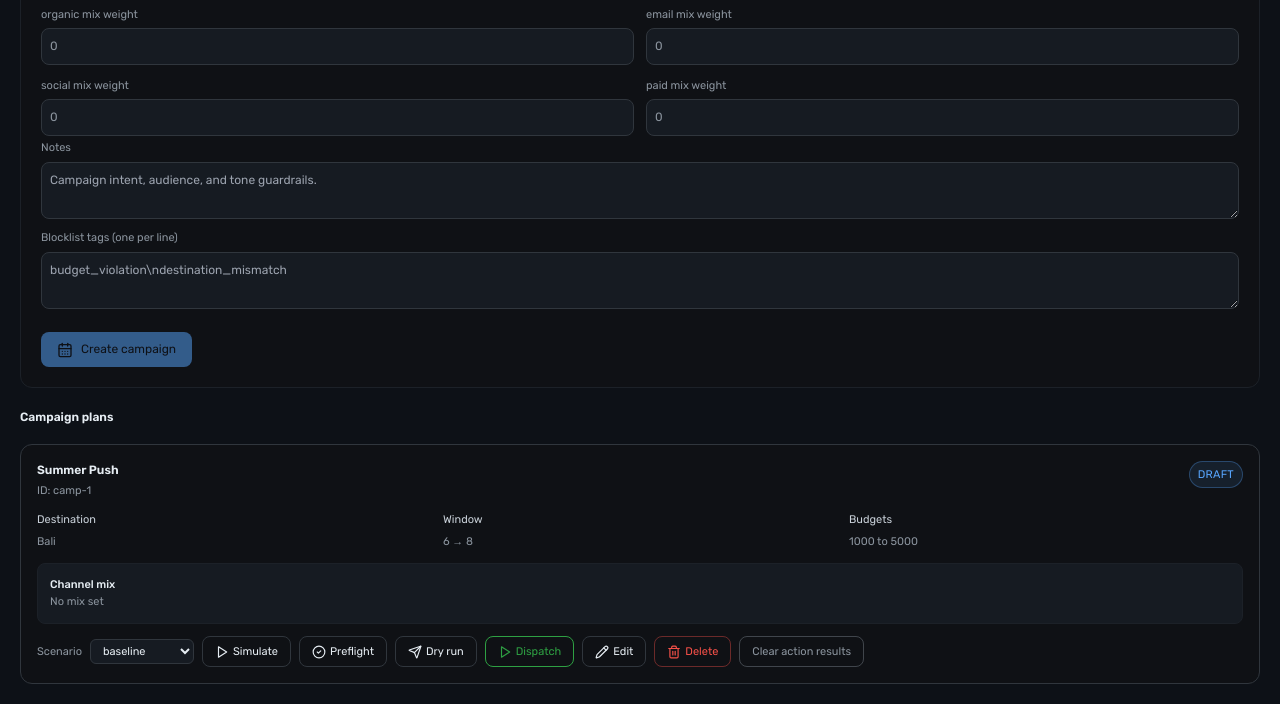
Scenario: SeasonsPageClient › shows the active scenario in the simulation result
This screenshot has width=1280, height=704.
(page scrolled)
Select "aggressive" in the dropdown labelled "Scenario" at (142, 652), box x1=90 y1=639 x2=194 y2=664
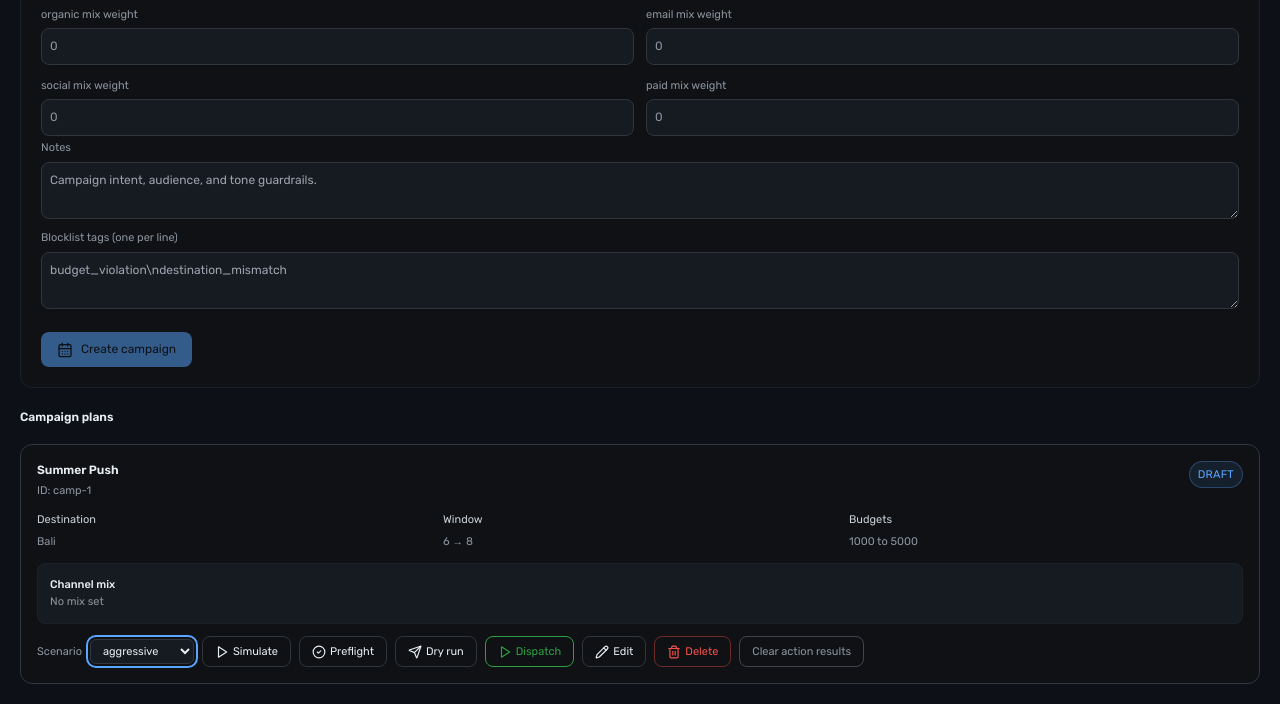
Click the button "Simulate" at (247, 652), box x1=202 y1=636 x2=291 y2=667
(page scrolled)
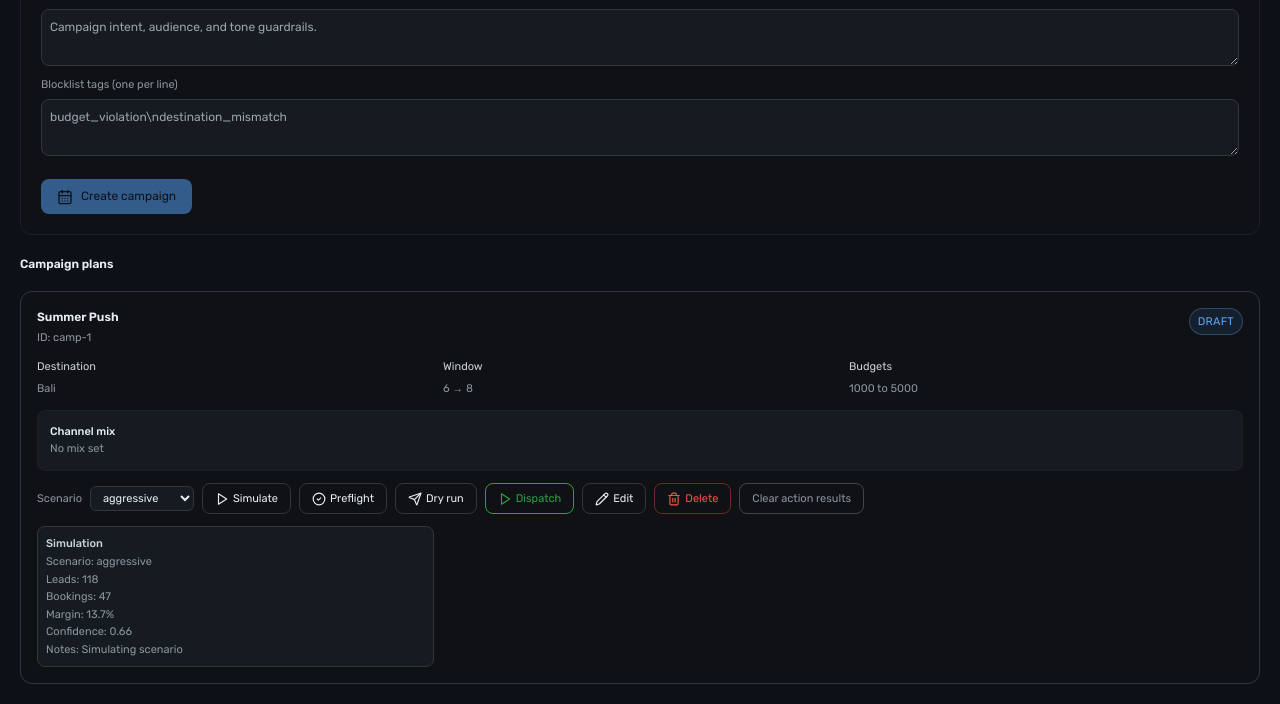
Expected: the text "Scenario: aggressive" is shown, x1=46 y1=555 x2=152 y2=568
Expected: the text "Leads: 118" is shown, x1=46 y1=572 x2=98 y2=586
